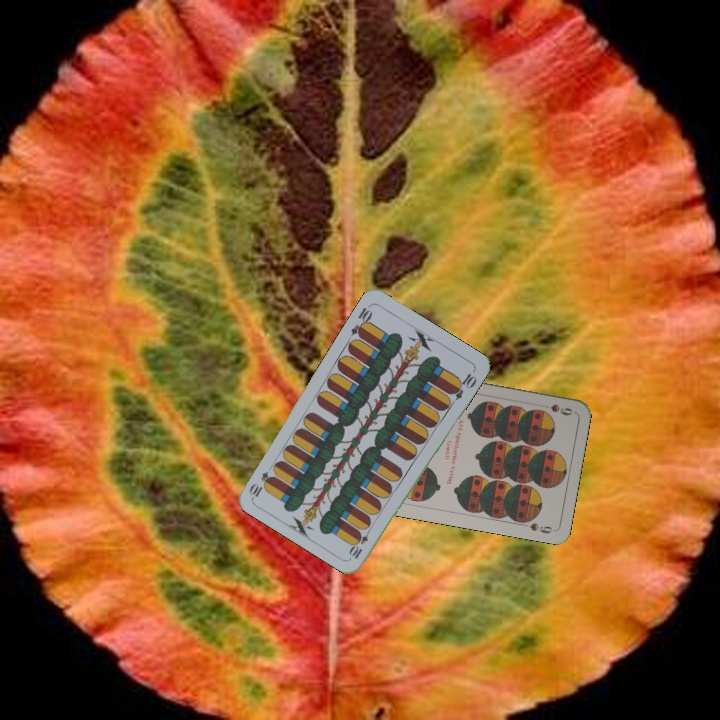E10: (347, 301, 375, 340), (346, 523, 374, 561)
S9: (535, 400, 575, 418)
